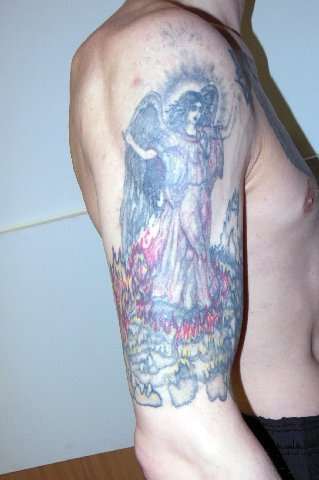tatu1_angel: (116, 70, 244, 318)
